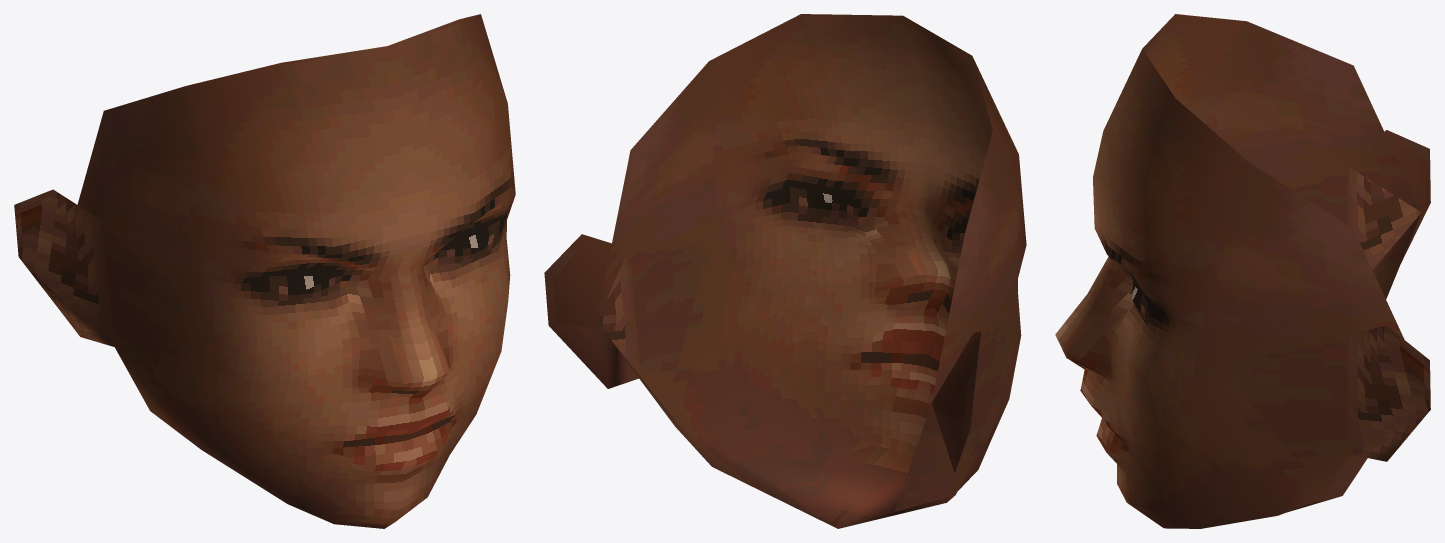
3 views of the same model, side by side, from view 1: azimuth 30°, elevation 25°; view 2: azimuth 150°, elevation 25°; view 3: azimuth 270°, elevation 25° (orthographic). The views are drawn at different scales.
Size of the model in its own units: 19.4 by 20.05 by 14.57.
Materials: 1 (1 with a texture image).
